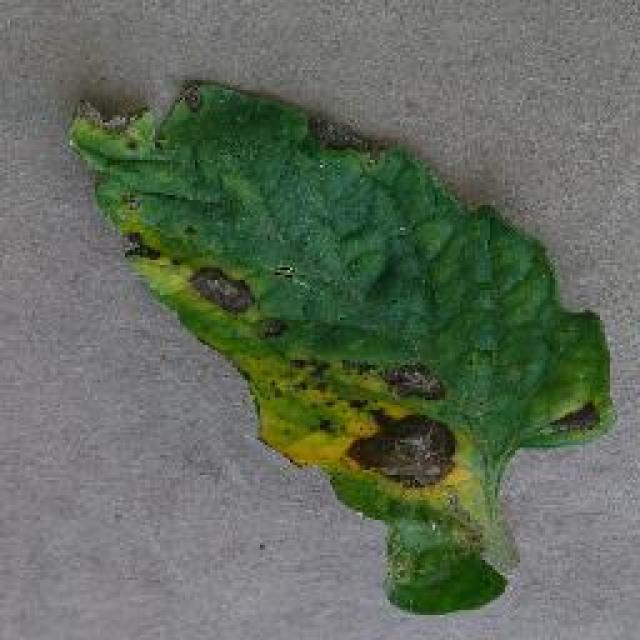Tomato Early blight leaf: (65, 90, 607, 618)
